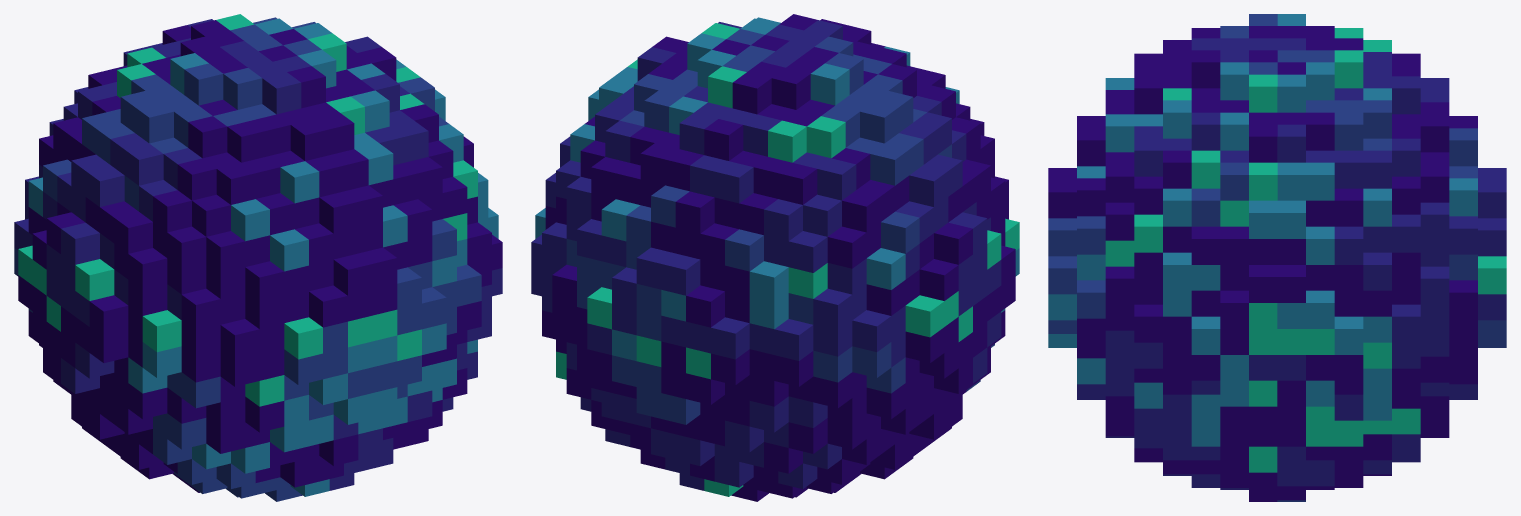
File: planetas-16-azulverde2.obj
The picture shows the model from 3 angles, left to right: view 1: azimuth 30°, elevation 25°; view 2: azimuth 150°, elevation 25°; view 3: azimuth 270°, elevation 25°; orthographic projection.
Bounding box in the file's own units: 1.6 × 1.6 × 1.6.
1 material, 1 textured.
